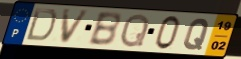0: (154, 15, 181, 50)
B: (86, 11, 122, 48)
D: (24, 7, 59, 43)
Q: (119, 12, 151, 49), (182, 17, 212, 51)
V: (60, 9, 92, 45)
